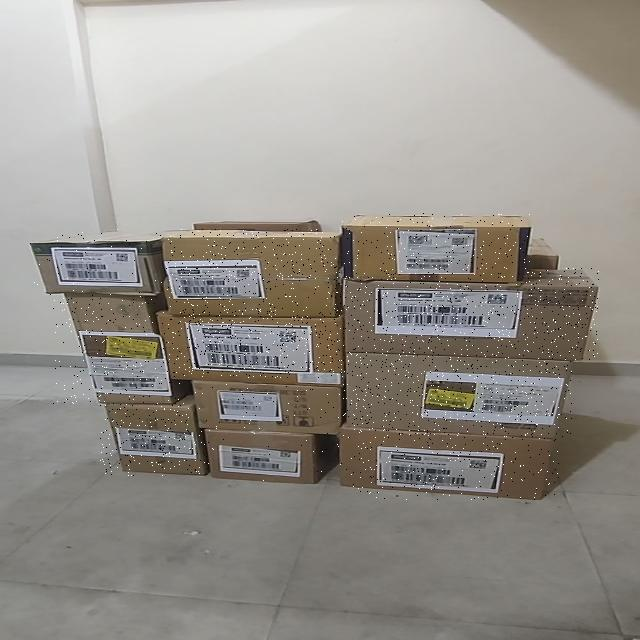BoxFace: (341, 267, 599, 360), (342, 352, 572, 438), (336, 422, 559, 500), (159, 229, 341, 317), (53, 290, 184, 404), (155, 309, 344, 385), (338, 213, 532, 283), (28, 229, 167, 296), (100, 396, 209, 476), (190, 378, 342, 434), (202, 428, 337, 484)
